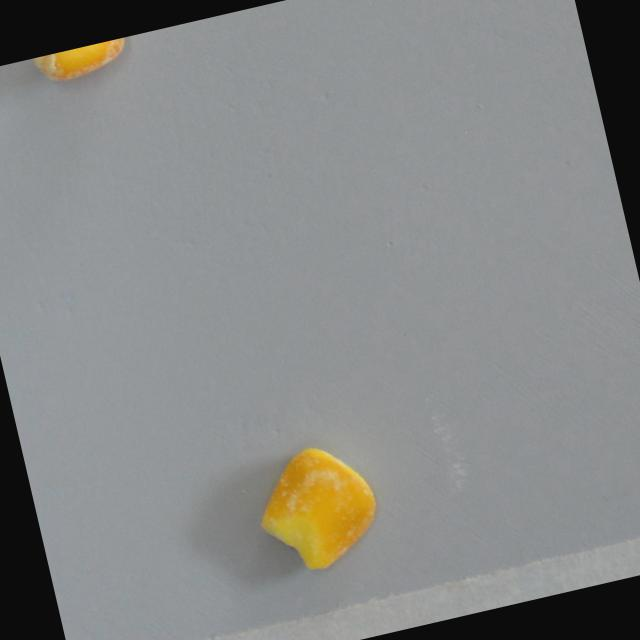pelicula: (244, 433, 389, 582), (31, 37, 131, 87)
